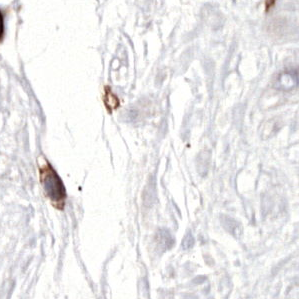Lymphocyte: (33, 161, 70, 211)
